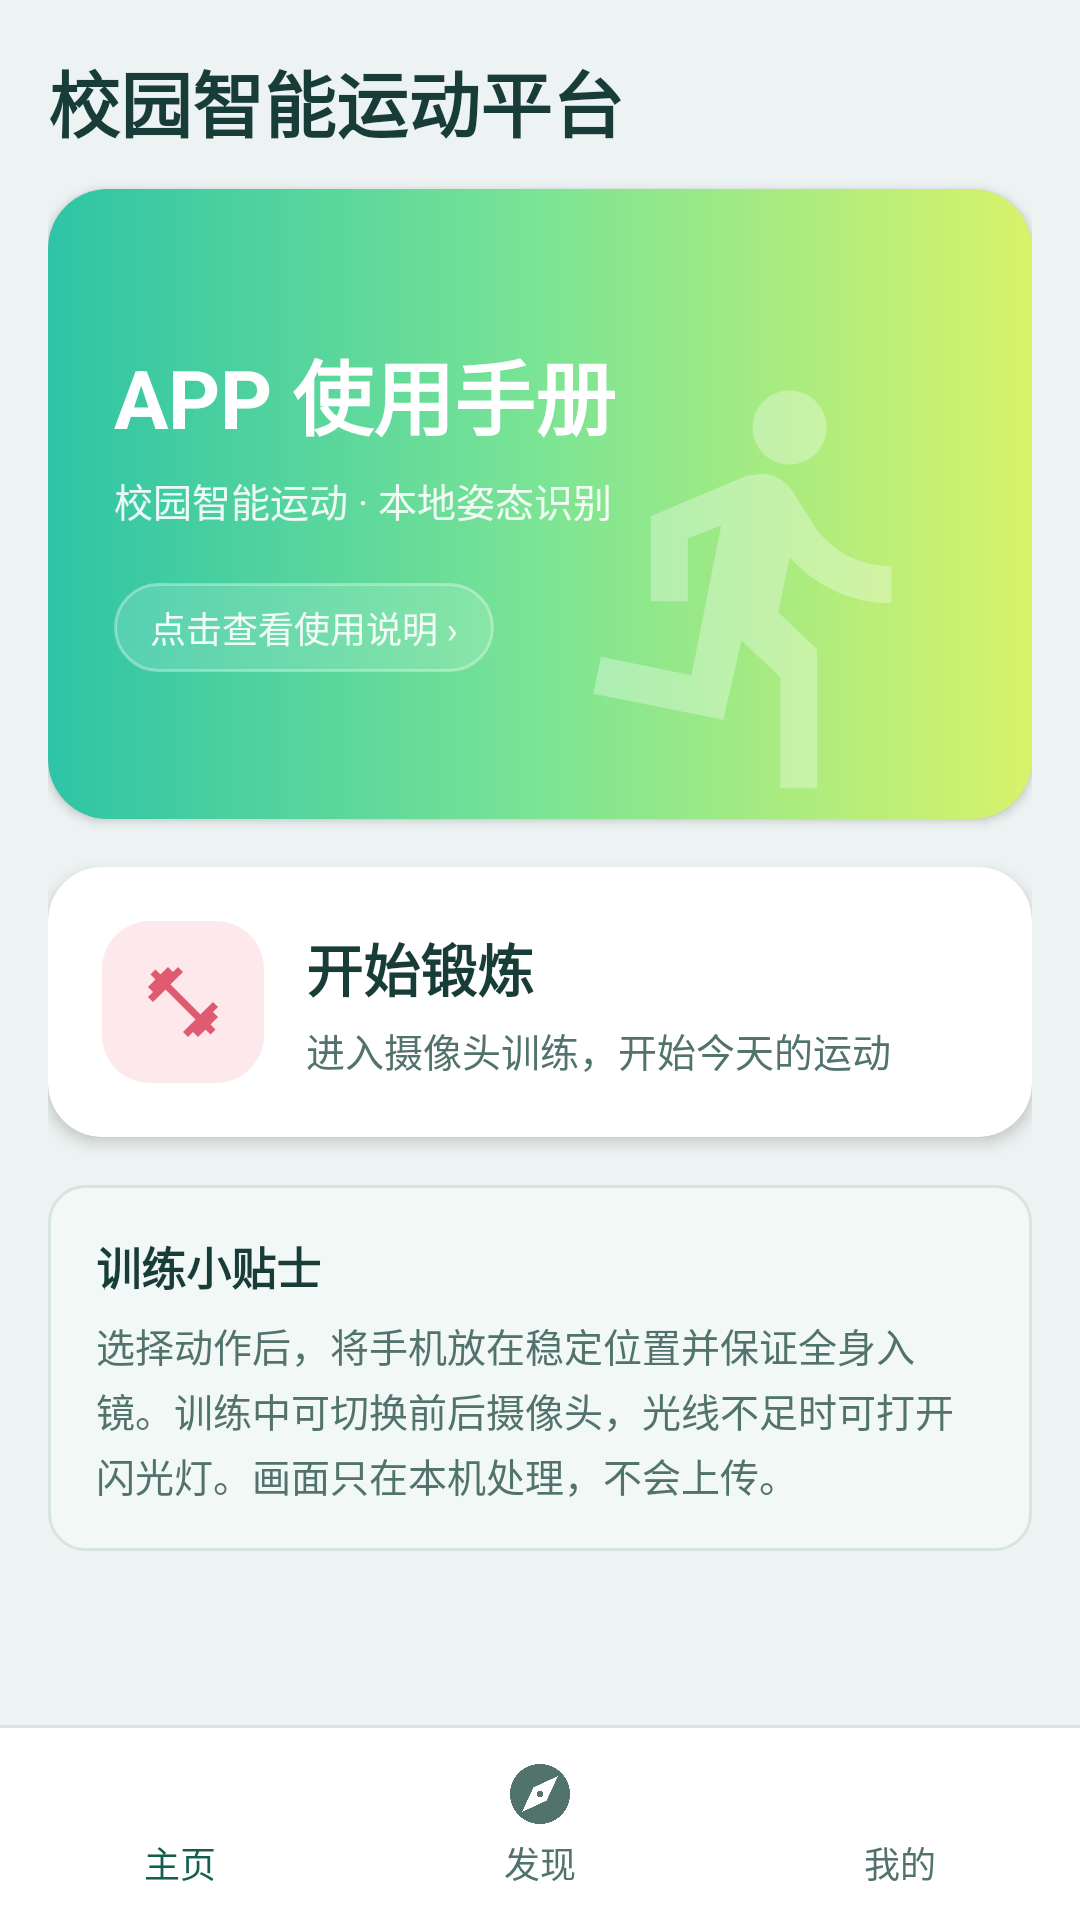

Icons on this 1080x1920 Android screen, each with its box as (x1, y1, x2, y2):
fitness: (148, 967, 218, 1037)
